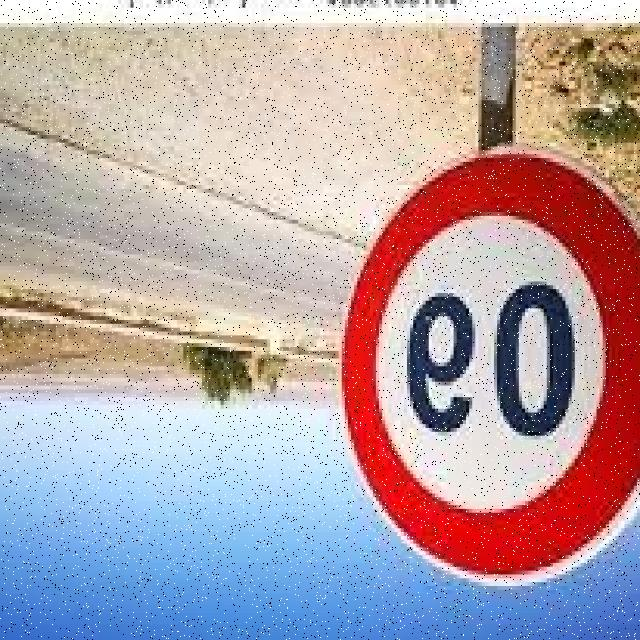speed_limit_60: (338, 139, 640, 590)
